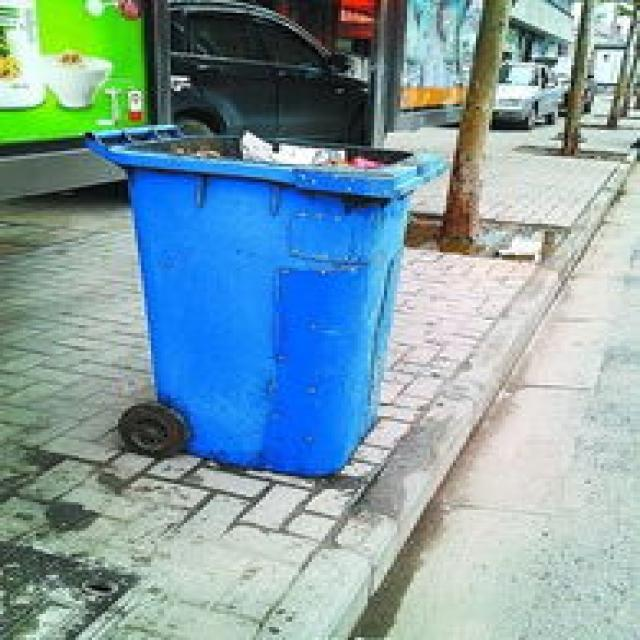overflow: (82, 120, 443, 473)
